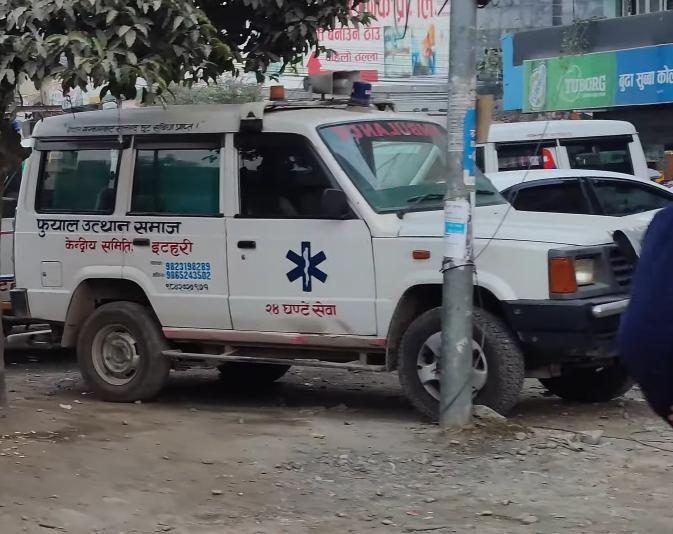ambulance: (3, 72, 673, 428)
